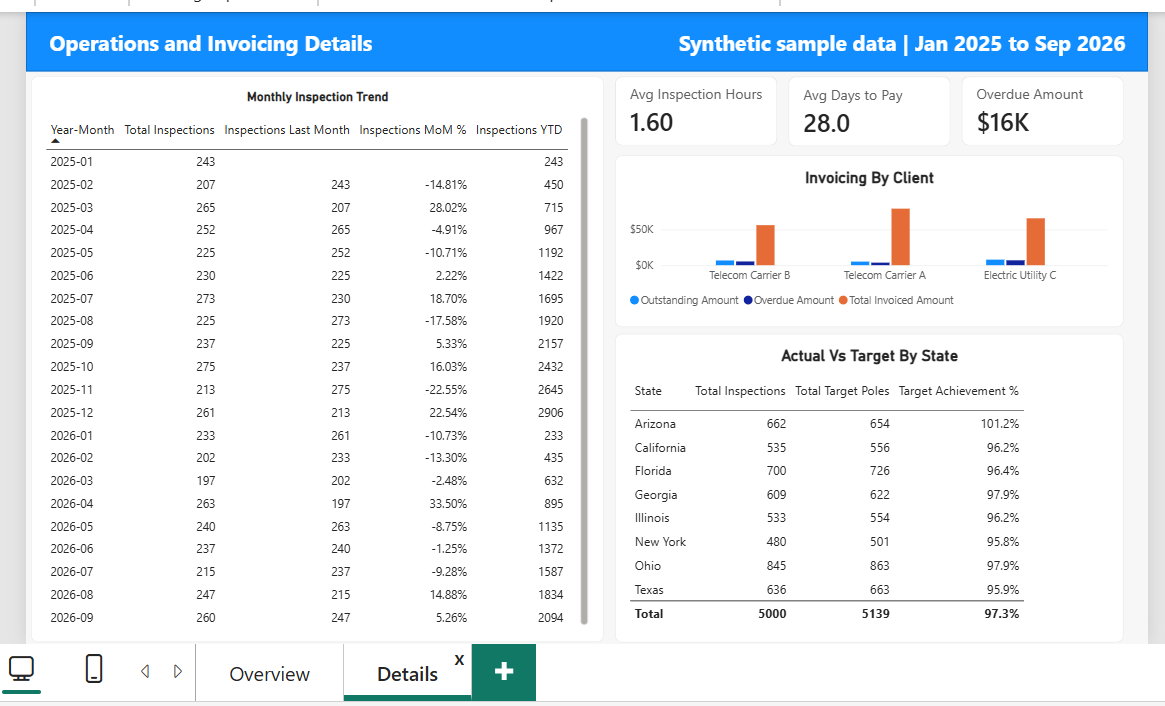

This screenshot's page, from the dashboard's own definition file:
{"tool":"powerbi","page":{"name":"Details","canvas":[1280,720],"ordinal":1},"visuals":[{"type":"tableEx","title":"Monthly Inspection Trend","fields":{"Values":["Dim_Date.Year-Month","_Measures.Total Inspections","_Measures.Inspections Last Month","_Measures.Inspections MoM %","_Measures.Inspections YTD"]},"box":[5.6,73.4,653.2,645.7],"z":0},{"type":"tableEx","title":"Actual Vs Target By State","fields":{"Values":["Dim_Region.State","_Measures.Total Inspections","_Measures.Total Target Poles","_Measures.Target Achievement %"]},"box":[672,367.1,579.8,352],"z":1000},{"type":"clusteredColumnChart","title":"Invoicing By Client","fields":{"Category":["Dim_Client.Client_Name"],"Y":["_Measures.Outstanding Amount","_Measures.Overdue Amount","_Measures.Total Invoiced Amount"]},"box":[672,163.8,579.8,195.8],"z":2000},{"type":"cardVisual","fields":{"Data":["_Measures.Average_Inspection_Hours"]},"box":[672,73.4,185,79.1],"z":3000},{"type":"cardVisual","fields":{"Data":["_Measures.Avg Days to Pay"]},"box":[869.7,73.4,185,80],"z":4000},{"type":"cardVisual","fields":{"Data":["_Measures.Overdue Amount"]},"box":[1067.3,73.4,185,79.1],"z":5000},{"type":"textbox","box":[1290.4,0,629.7,67.8],"z":8000},{"type":"shape","box":[0,0,1280.1,67.8],"z":8001},{"type":"textbox","box":[0,0,476.3,67.8],"z":8002},{"type":"textbox","box":[0,0,421.7,73.4],"z":8003},{"type":"textbox","box":[719.1,0,561,73.4],"z":8004}]}

Visuals, with their boxes on the page's 1280x720 design canvas (x1, y1, x2, y2). These are canvas units, not pixel positions in the 1165x706 screenshot, which may show the page scaled, cropped or inside an application window:
"Monthly Inspection Trend" tableEx: box=[6, 73, 659, 719]
"Actual Vs Target By State" tableEx: box=[672, 367, 1252, 719]
"Invoicing By Client" clusteredColumnChart: box=[672, 164, 1252, 360]
cardVisual - _Measures.Average_Inspection_Hours: box=[672, 73, 857, 152]
cardVisual - _Measures.Avg Days to Pay: box=[870, 73, 1055, 153]
cardVisual - _Measures.Overdue Amount: box=[1067, 73, 1252, 152]
textbox: box=[1290, 0, 1920, 68]
shape: box=[0, 0, 1280, 68]
textbox: box=[0, 0, 476, 68]
textbox: box=[0, 0, 422, 73]
textbox: box=[719, 0, 1280, 73]
